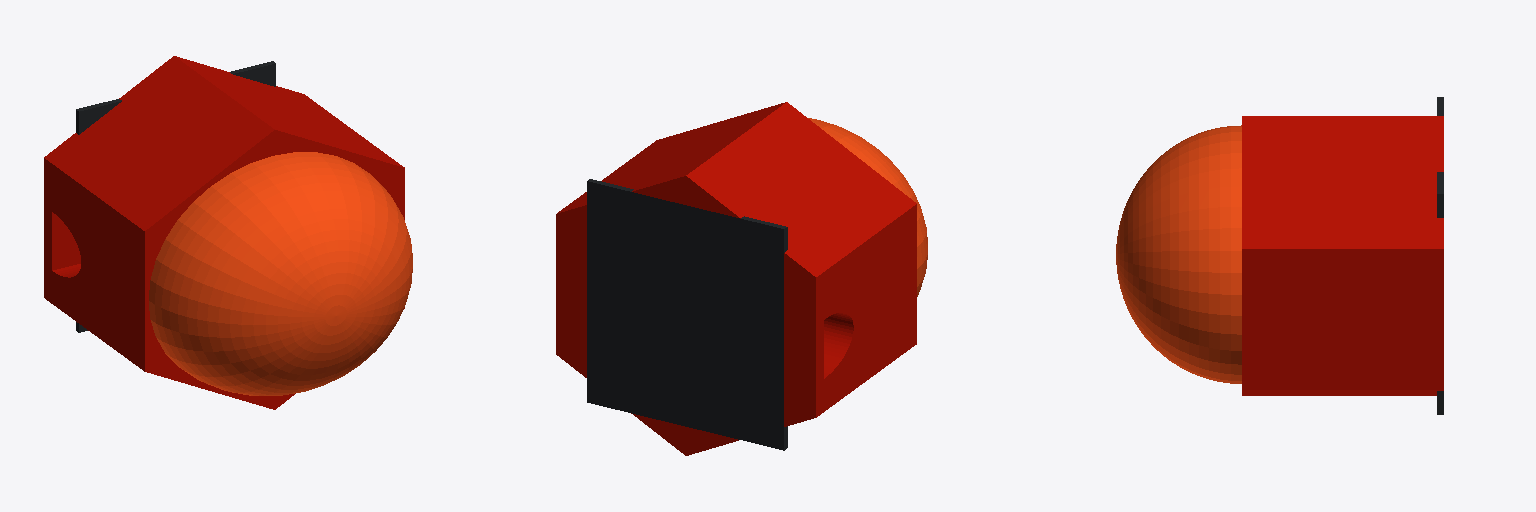
File: tinker.obj
3 views of the same model, side by side, from view 1: azimuth 30°, elevation 25°; view 2: azimuth 150°, elevation 25°; view 3: azimuth 270°, elevation 25° (orthographic).
Visible parts, largest first — view 1: obj_0; view 2: obj_0; view 3: obj_0.
Boxes of the visible parts, x1,y1,x2,y2 form: obj_0: [44, 56, 412, 409]; obj_0: [556, 102, 927, 455]; obj_0: [1116, 97, 1443, 414].
Bounding box in the file's own units: 92.31 × 95 × 101.